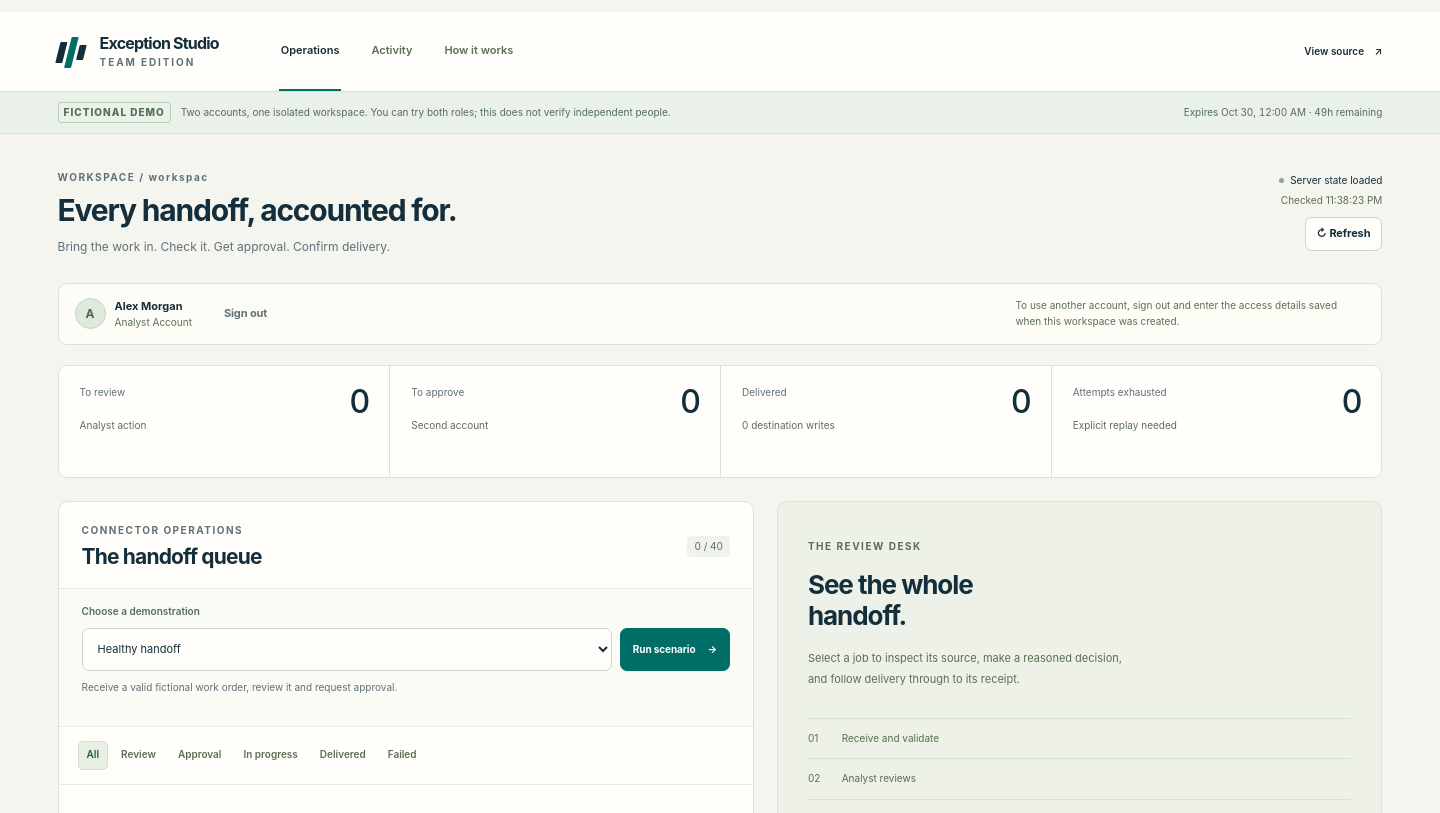
Scenario: Team edition commands and evidence › treats a server failure as uncertain rather than generating another change
The image size is (1440, 813).
Click the button "Run scenario →": (675,649) x1=620 y1=628 x2=730 y2=671
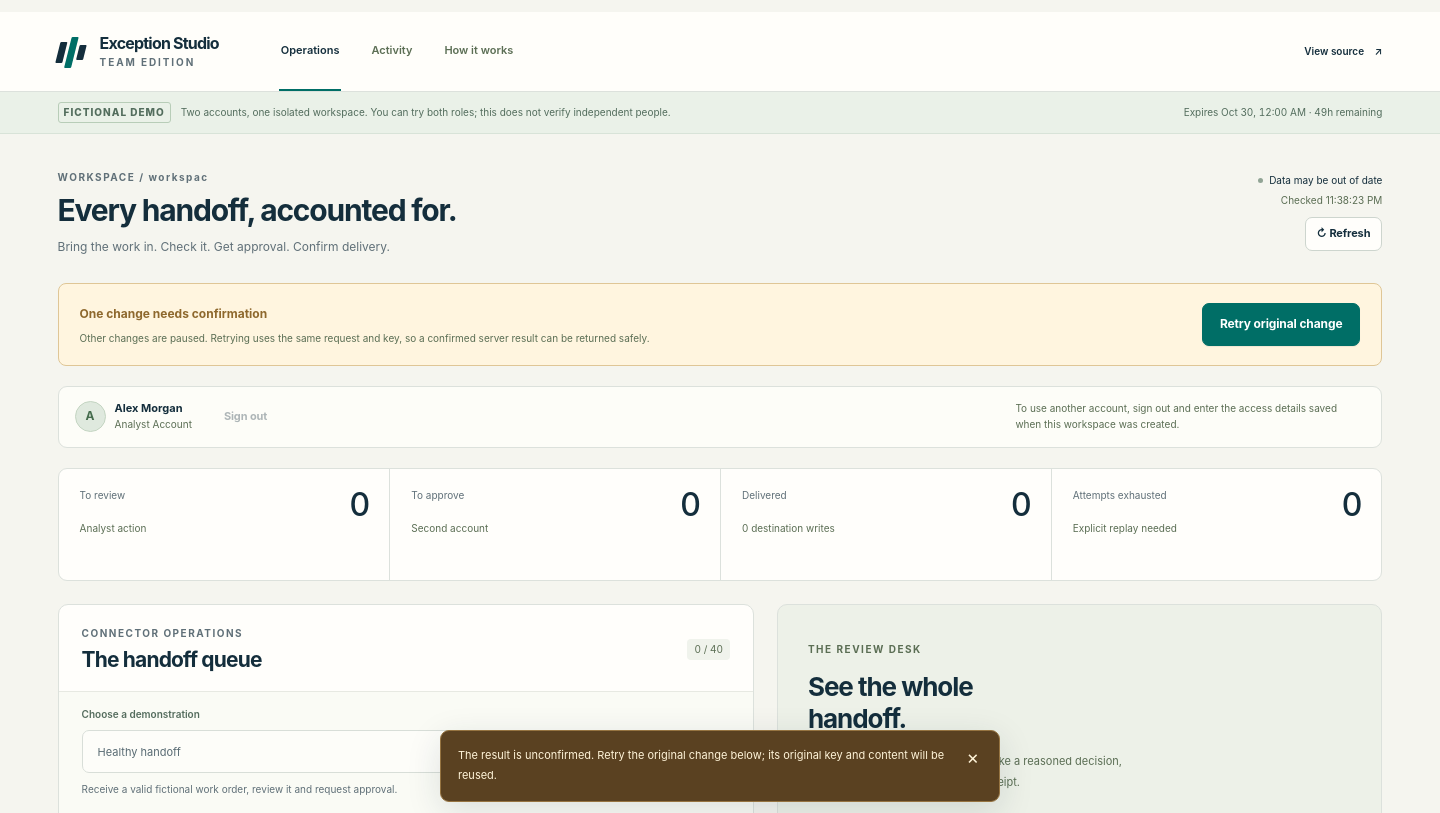
expect the button "Retry original change" is shown: met, box x1=1202 y1=303 x2=1360 y2=346
